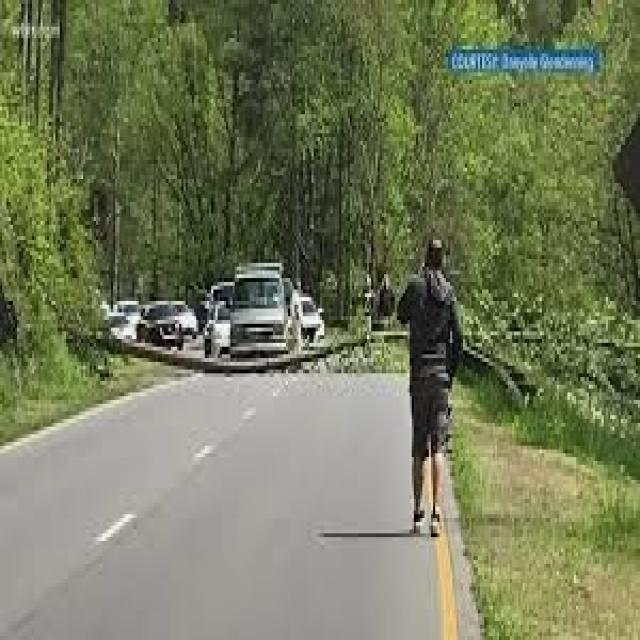fallen_object: (86, 267, 640, 392)
